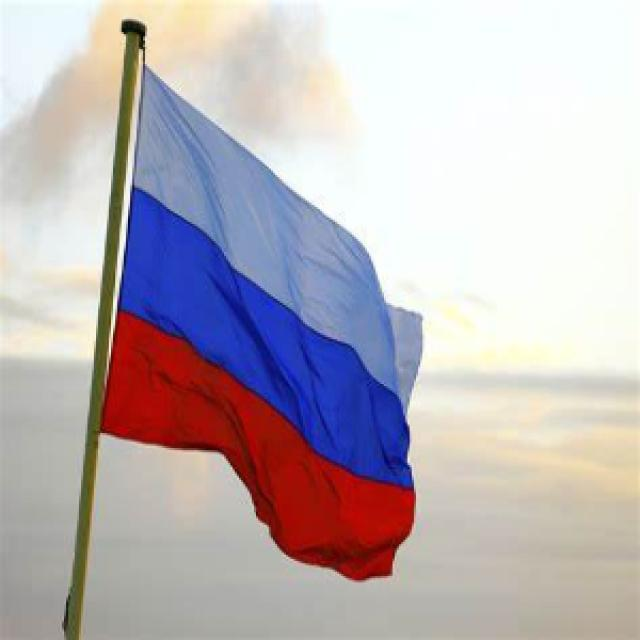russia: (80, 11, 507, 626)
